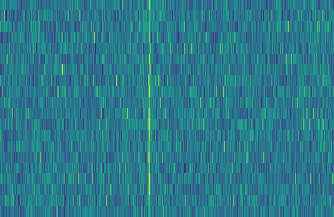signal: (144, 0, 154, 217)
